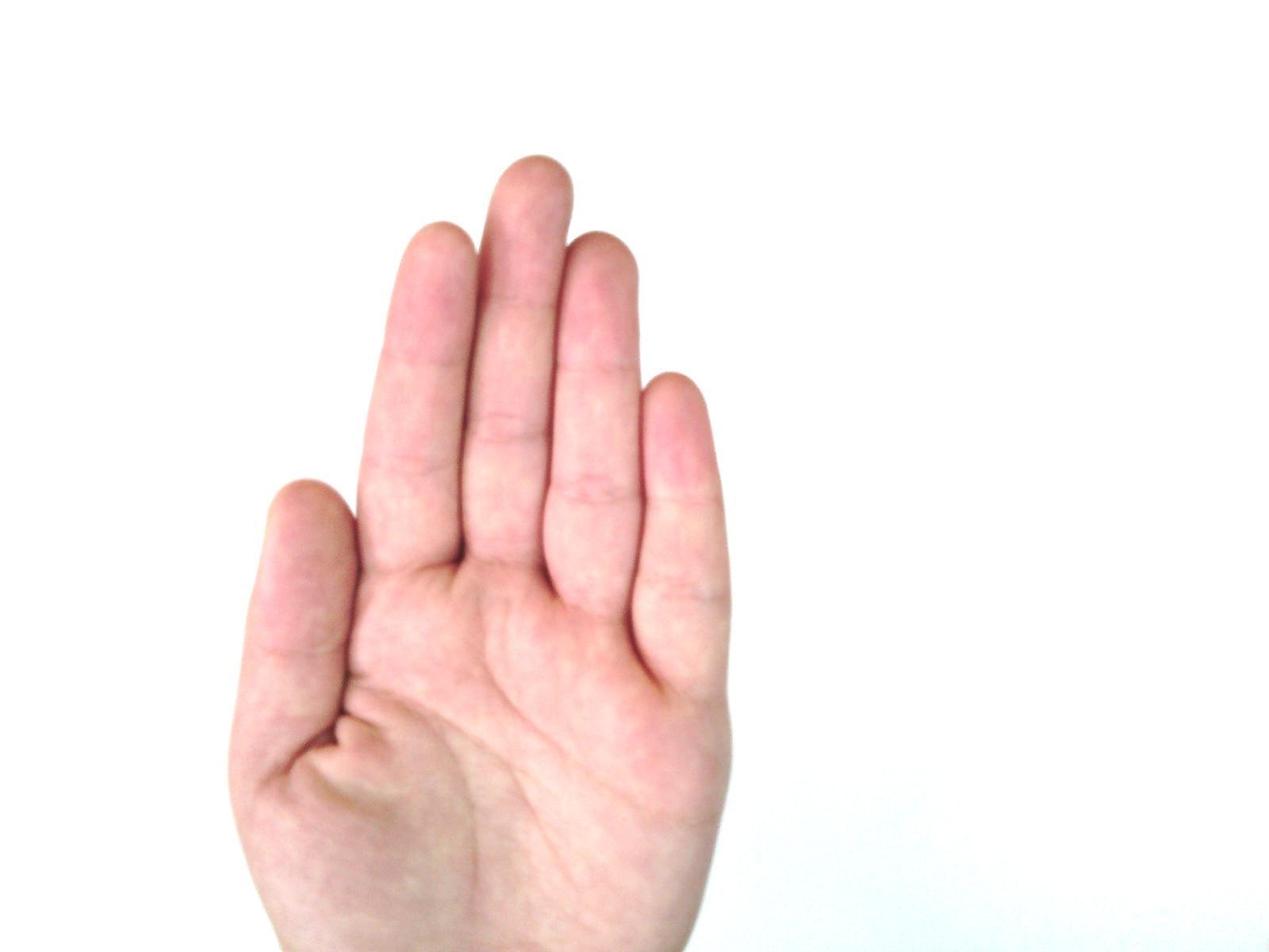open_palm: (225, 154, 738, 951)
